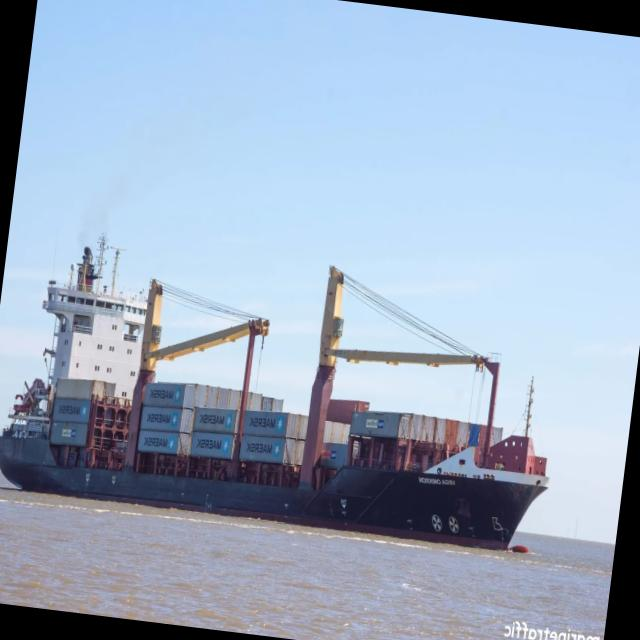Cargo: (0, 247, 549, 549)
